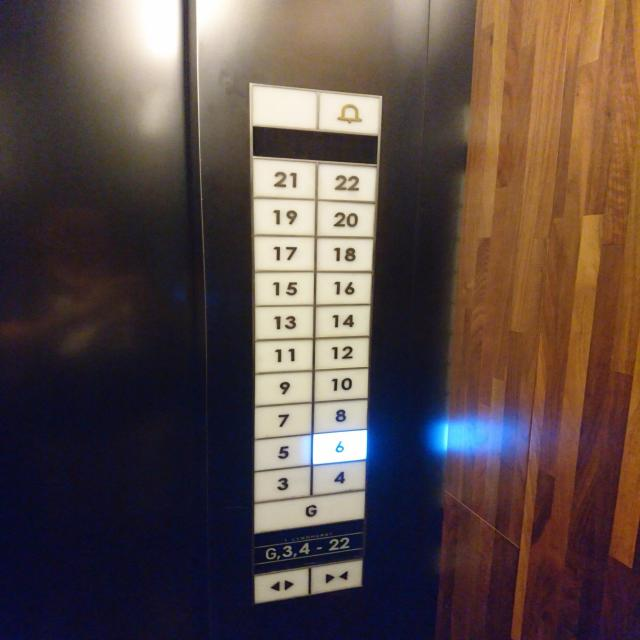10: (313, 369, 369, 400)
11: (252, 338, 315, 376)
12: (312, 337, 370, 369)
13: (252, 304, 316, 341)
14: (312, 303, 373, 338)
15: (252, 270, 316, 307)
16: (314, 269, 374, 306)
17: (250, 234, 316, 273)
18: (314, 235, 374, 270)
19: (248, 196, 316, 233)
20: (315, 198, 379, 237)
21: (250, 153, 320, 199)
22: (316, 160, 378, 200)
3: (250, 465, 312, 504)
4: (310, 461, 370, 497)
5: (251, 435, 311, 469)
6: (310, 427, 370, 467)
7: (252, 400, 314, 440)
8: (312, 398, 370, 435)
9: (252, 368, 315, 409)
G: (252, 491, 366, 535)
alarm: (315, 88, 384, 136)
close: (308, 558, 367, 596)
empty: (246, 81, 322, 132)
open: (253, 566, 310, 604)
